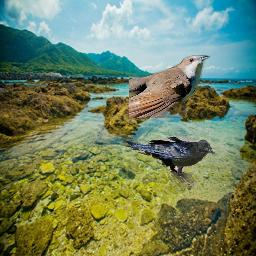Crow: (122, 136, 215, 186)
Cuckoo: (129, 55, 210, 118)
